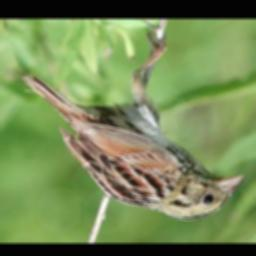Sparrow: (20, 32, 245, 222)
